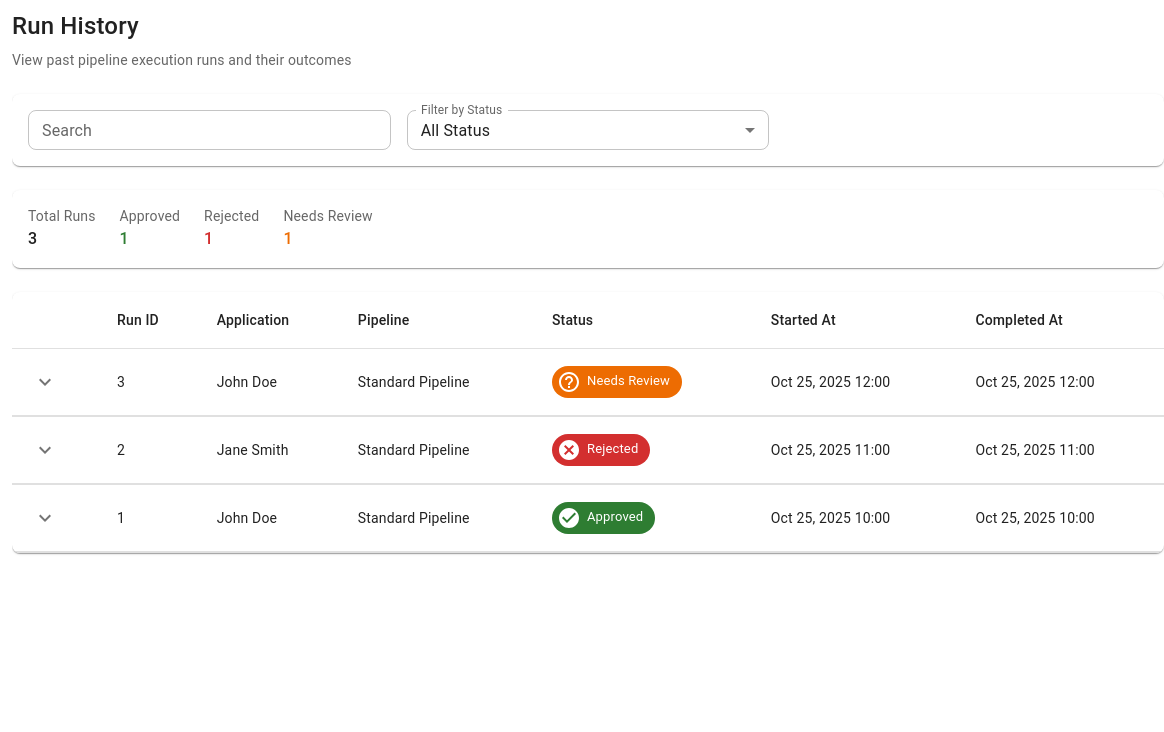
Test: Runs Page › Expandable Rows › should expand row to show step logs when clicked
Expected: the text "Step Execution Logs" is not shown
// Click expand button for first run (run ID 3)
Click the 1st button at (45, 382), box [28,365,62,399]
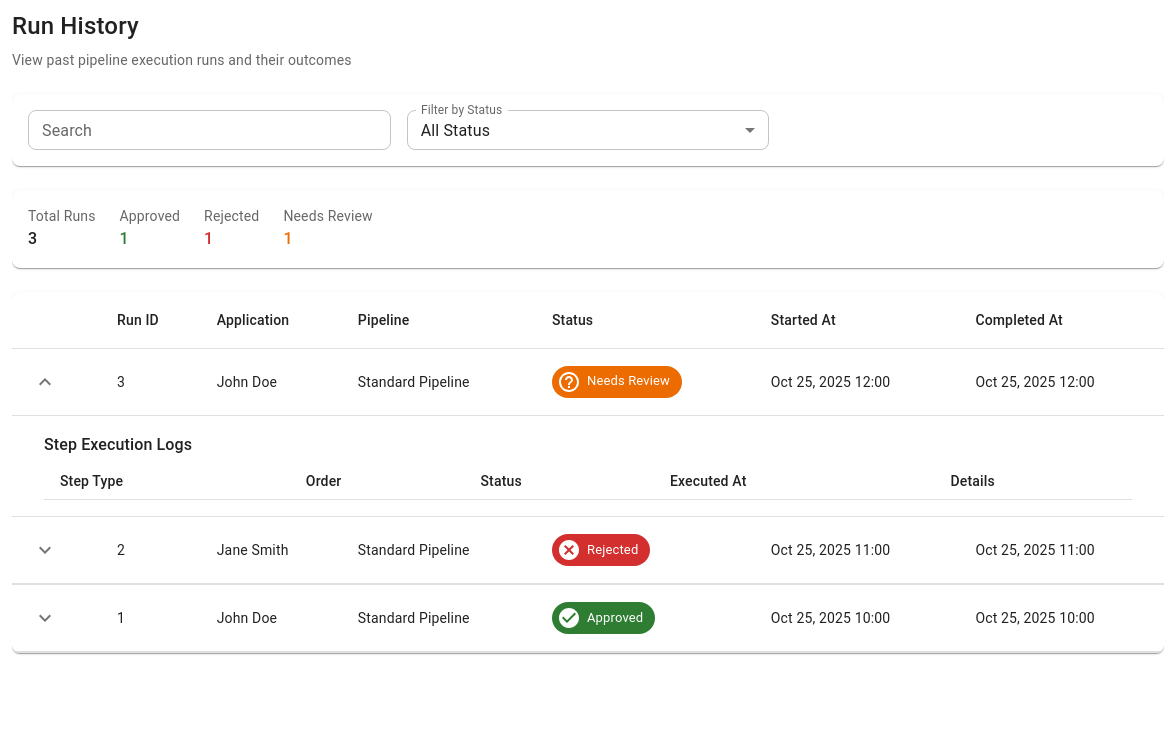
Result: the text "Step Execution Logs" is shown at [44,435,192,454]
